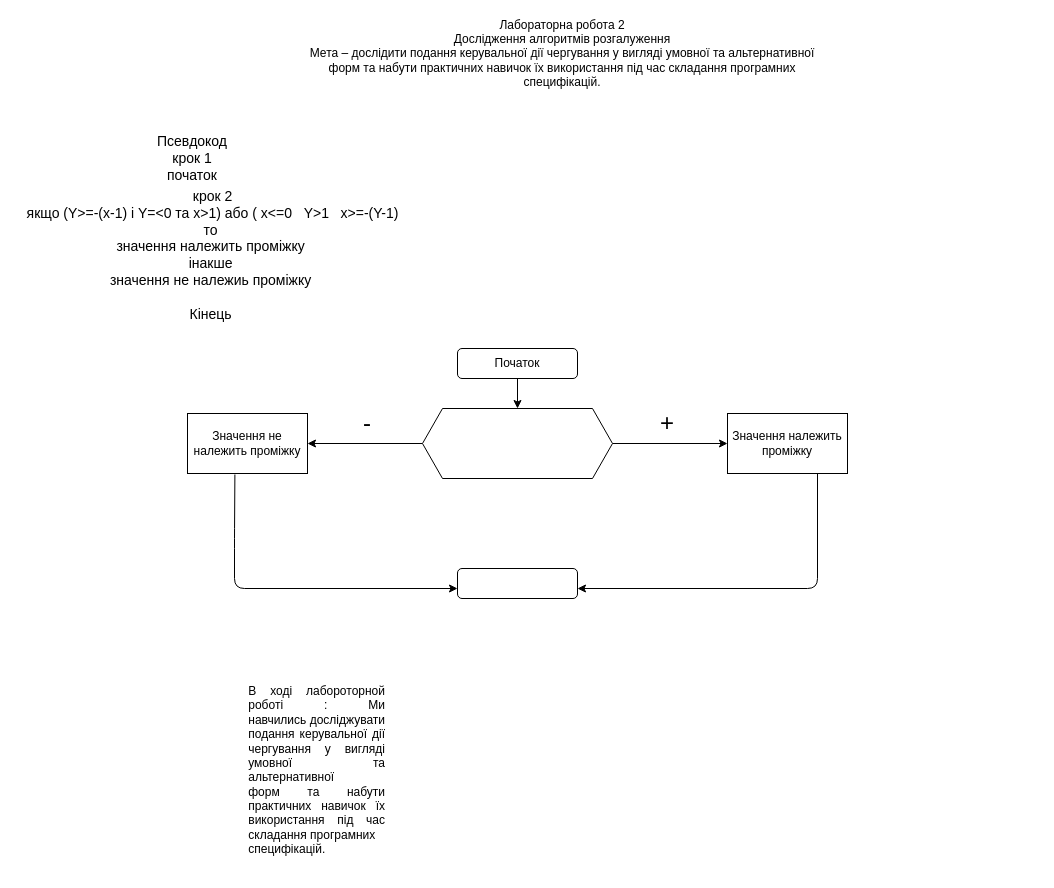
Image size: 1054x888. Some labels were removed from this diagram. The shapes that lost their labels are listed below. From the top down, each one's centre as x and y in pixels, then its label:
At (517,443): "(Y>=-(x-1) і Y=<0 i х>1) або ( x<=0 i Y>1 i x>=-(Y-1)".
At (517,583): "Кінець".
